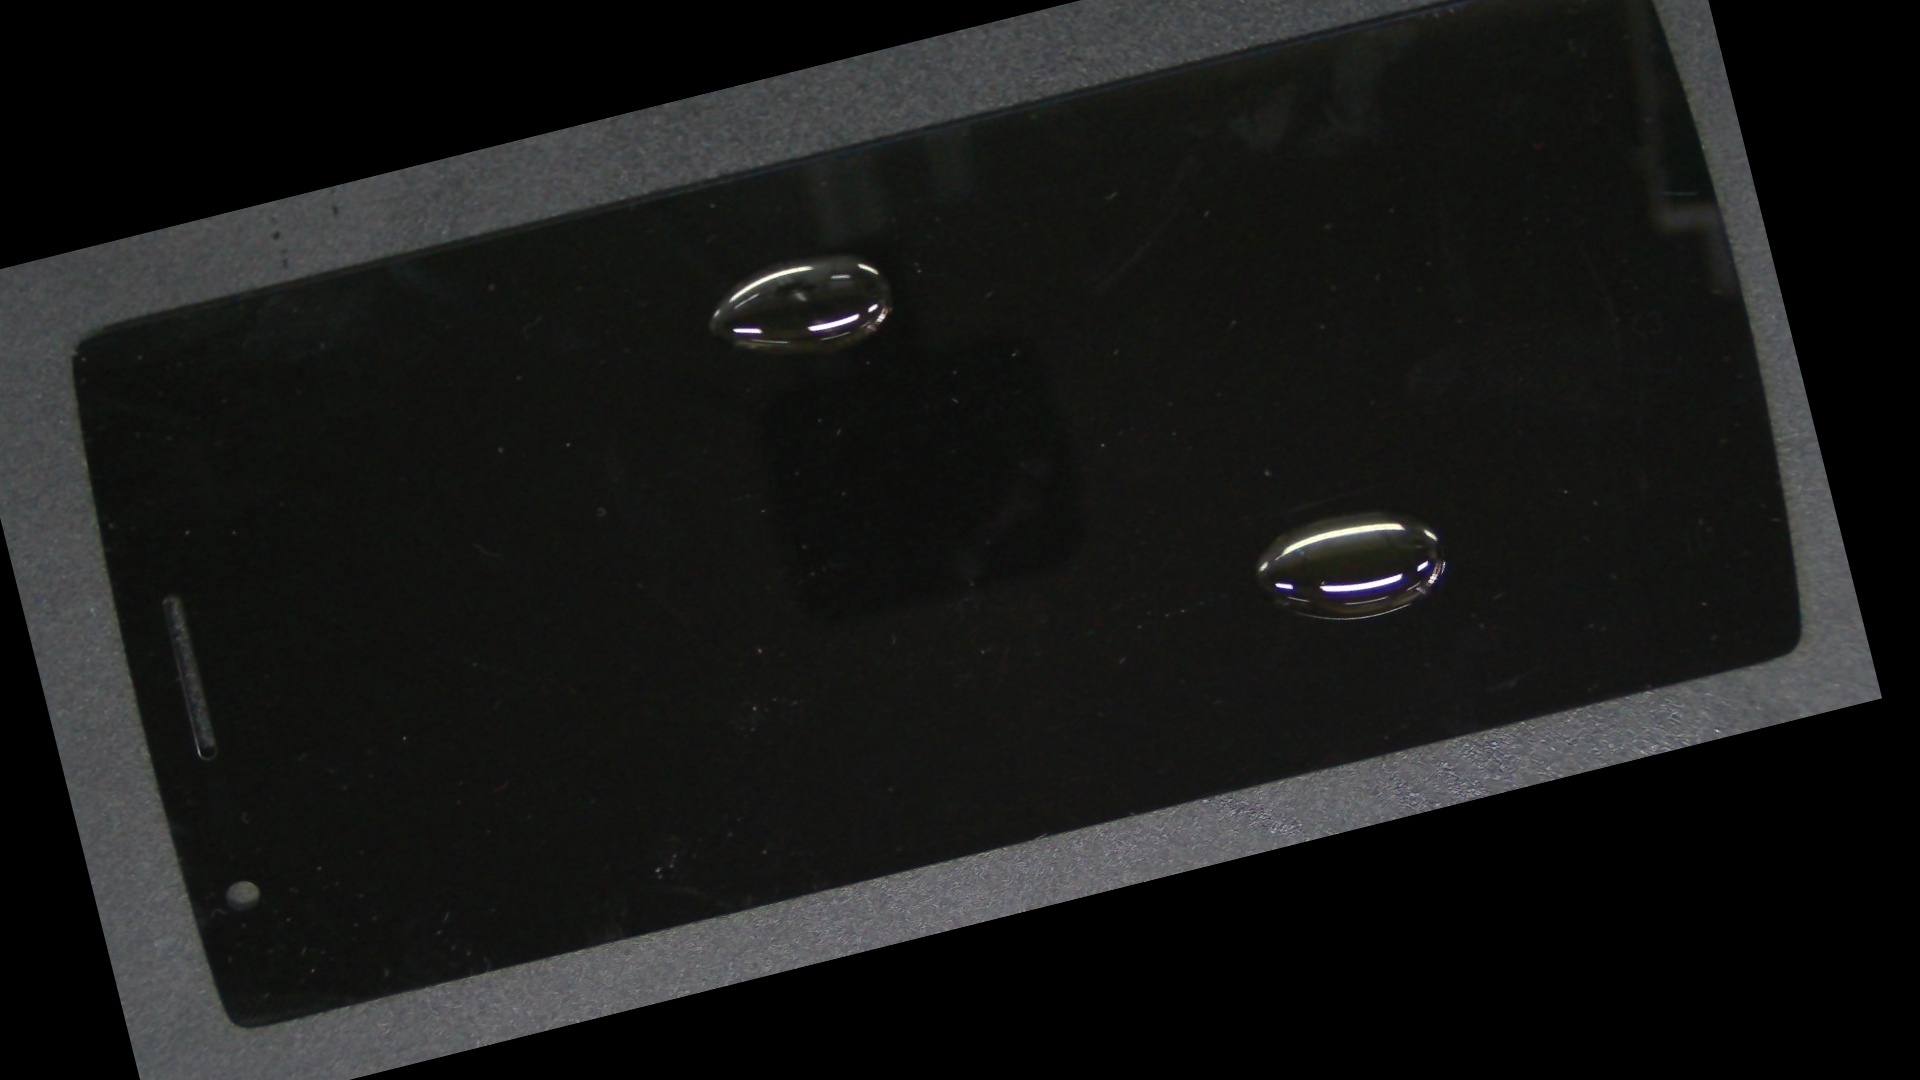oil: (636, 125, 1875, 948), (363, 74, 1203, 450)
